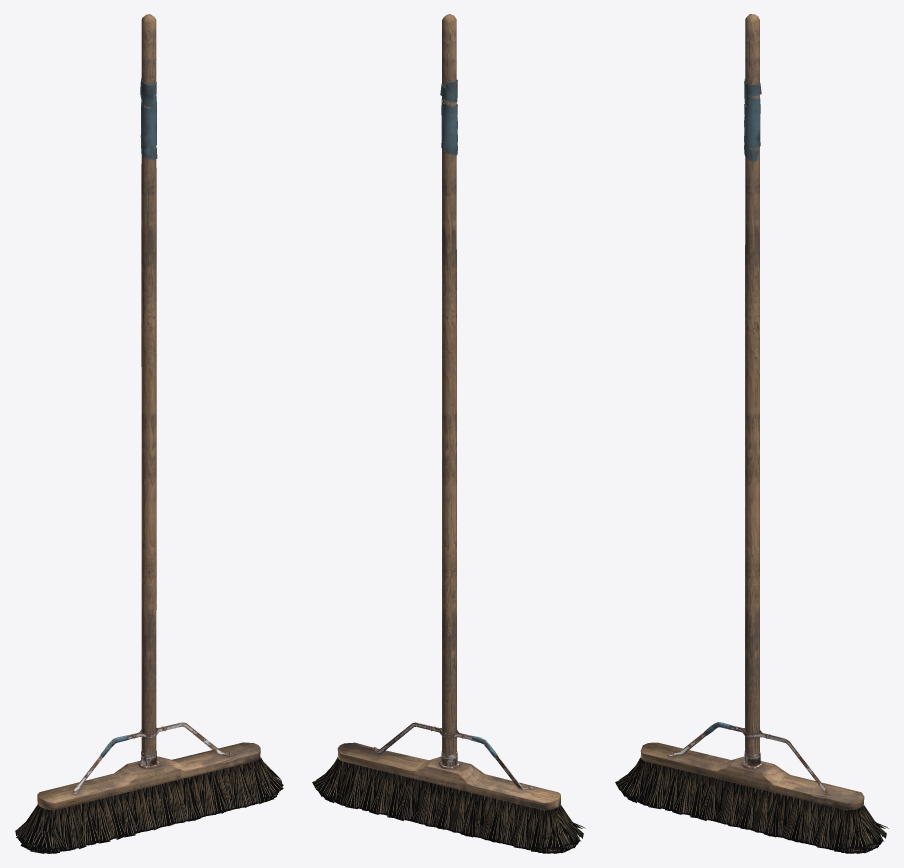
3 renders of one model, left to right at view 1: azimuth 30°, elevation 25°; view 2: azimuth 150°, elevation 25°; view 3: azimuth 330°, elevation 25°, orthographic.
Visible parts, largest first — view 1: wooden_broom_handle, wooden_broom_bristles, wooden_broom; view 2: wooden_broom_handle, wooden_broom_bristles, wooden_broom; view 3: wooden_broom_handle, wooden_broom_bristles, wooden_broom.
Part boxes in pixels (x1,y1,x2,y2): wooden_broom_handle: (140, 14, 157, 765); wooden_broom_bristles: (15, 757, 283, 853); wooden_broom: (37, 722, 260, 817); wooden_broom_handle: (440, 14, 457, 766); wooden_broom_bristles: (312, 757, 585, 853); wooden_broom: (337, 722, 560, 820); wooden_broom_handle: (744, 14, 761, 766); wooden_broom_bristles: (615, 757, 888, 853); wooden_broom: (640, 722, 864, 820).
Size of the model in its own units: 0.4902 by 1.45 by 0.1125.
2 materials, 2 textured.
